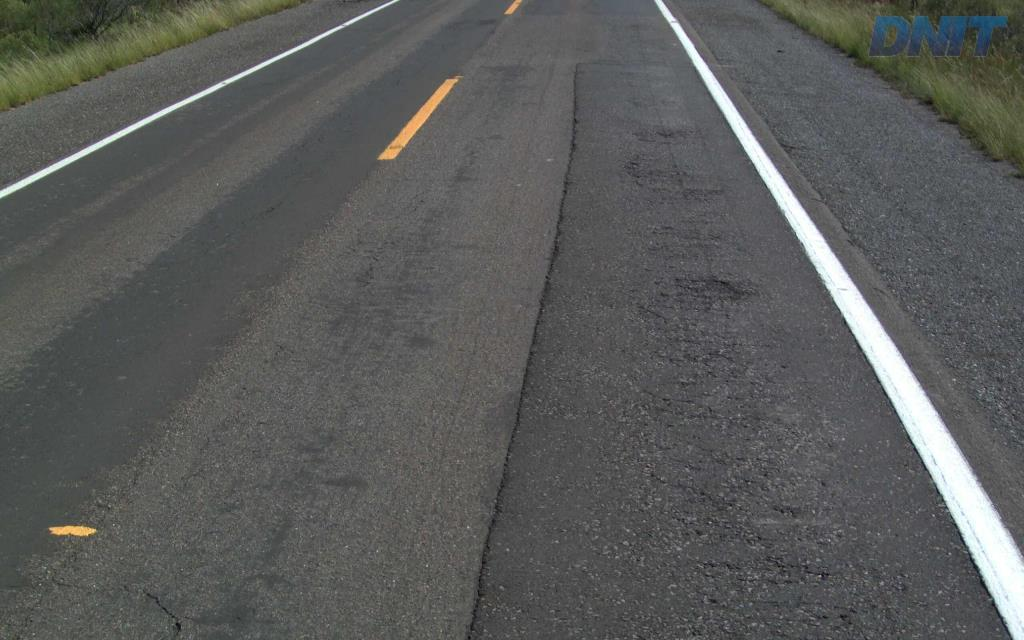crack: (743, 554, 831, 590), (674, 274, 755, 300), (674, 479, 737, 512), (713, 614, 757, 639)
